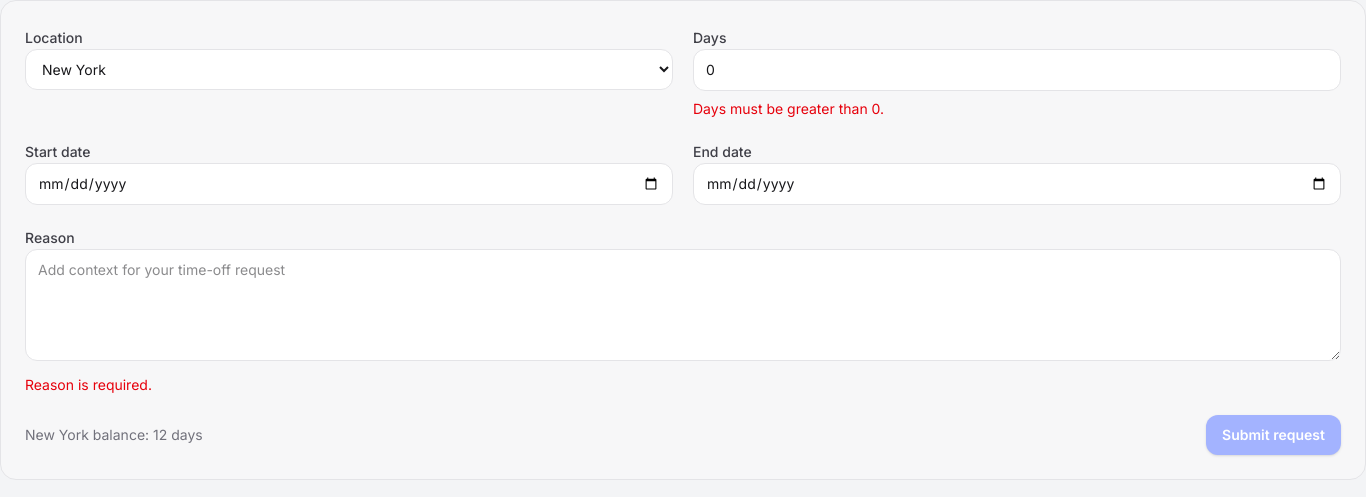
Test: RequestForm › shows error when days exceed available balance
Replace the text in the number field labelled "Days" with "20" at (1017, 70), box [693, 49, 1341, 91]
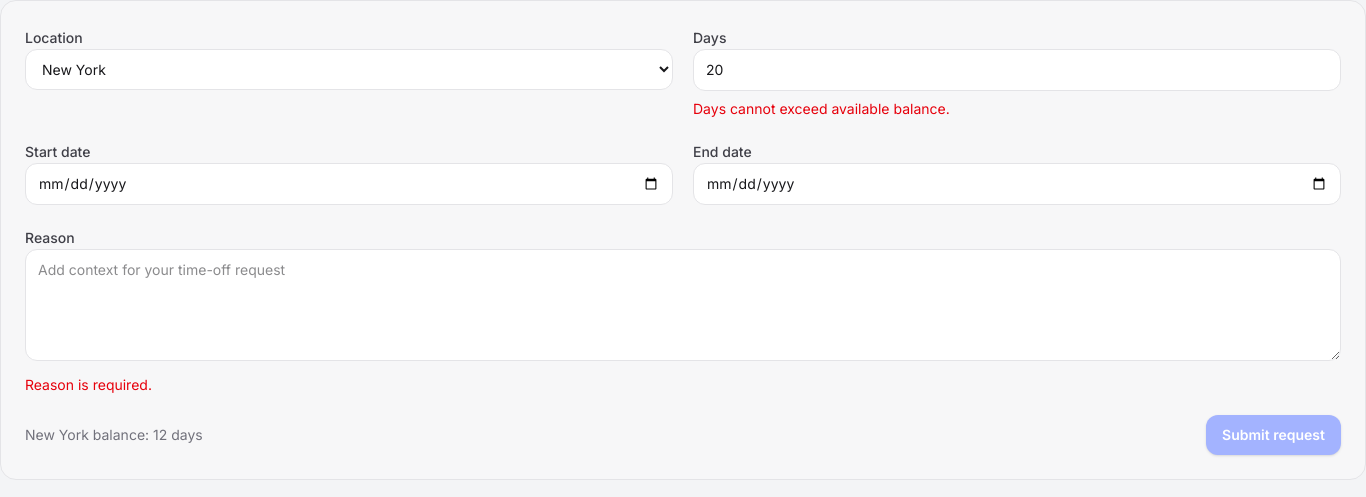
Check: the text "Days cannot exceed available balance." is shown, box [693, 100, 950, 117]
